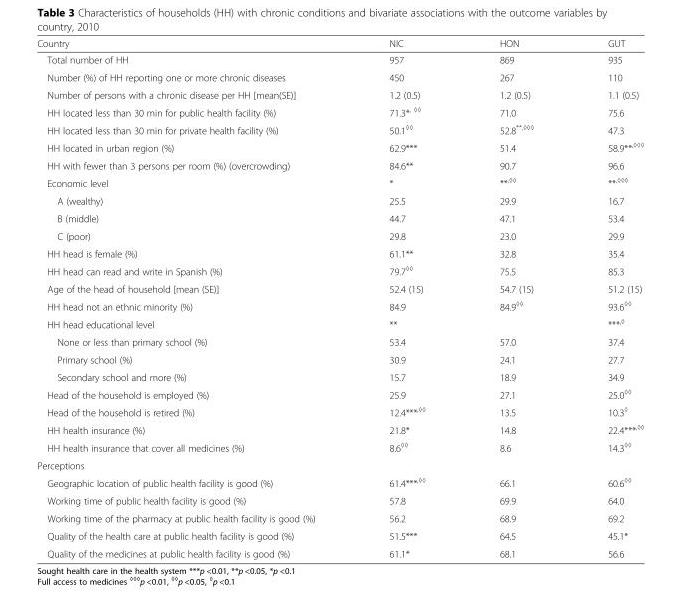table: (36, 37, 643, 559)
table column: (36, 37, 351, 559), (351, 37, 461, 559), (461, 37, 570, 559), (570, 37, 643, 559)
table column header: (36, 37, 643, 51)
table projected row header: (36, 456, 643, 473)
table row: (36, 137, 643, 156), (36, 437, 643, 456), (36, 102, 643, 120), (36, 173, 643, 191), (36, 191, 643, 209), (36, 209, 643, 227), (36, 261, 643, 279), (36, 296, 643, 314), (36, 314, 643, 332), (36, 332, 643, 350), (36, 350, 643, 368), (36, 384, 643, 402), (36, 402, 643, 420), (36, 473, 643, 491), (36, 491, 643, 509), (36, 526, 643, 544), (36, 51, 643, 68), (36, 68, 643, 85), (36, 85, 643, 102), (36, 120, 643, 137), (36, 156, 643, 173), (36, 227, 643, 244), (36, 244, 643, 261), (36, 279, 643, 296), (36, 420, 643, 437), (36, 456, 643, 473), (36, 509, 643, 526), (36, 368, 643, 384), (36, 544, 643, 559), (36, 37, 643, 51)
